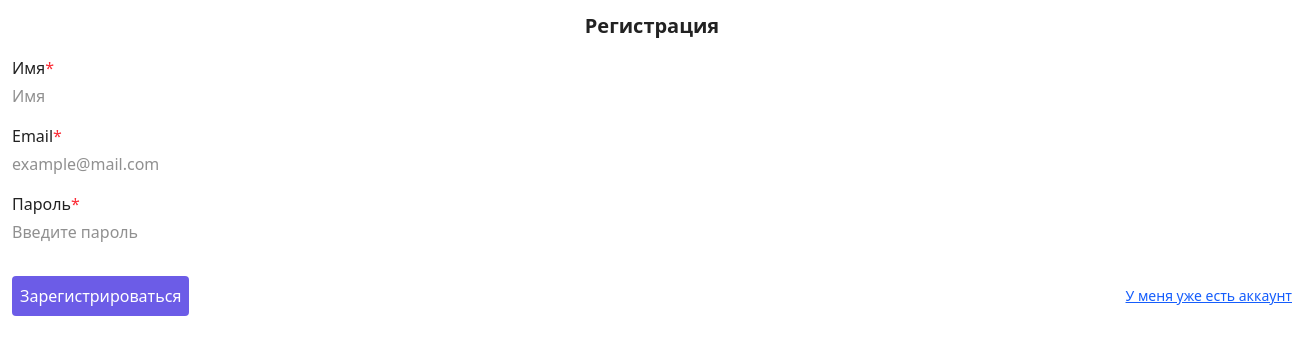
Test: RegisterForm › ошибка: email занят
The image size is (1304, 357).
Type "Test User" into the field with placeholder "Имя".
click(652, 96); type("Test User")  # box [12,84,1292,108]
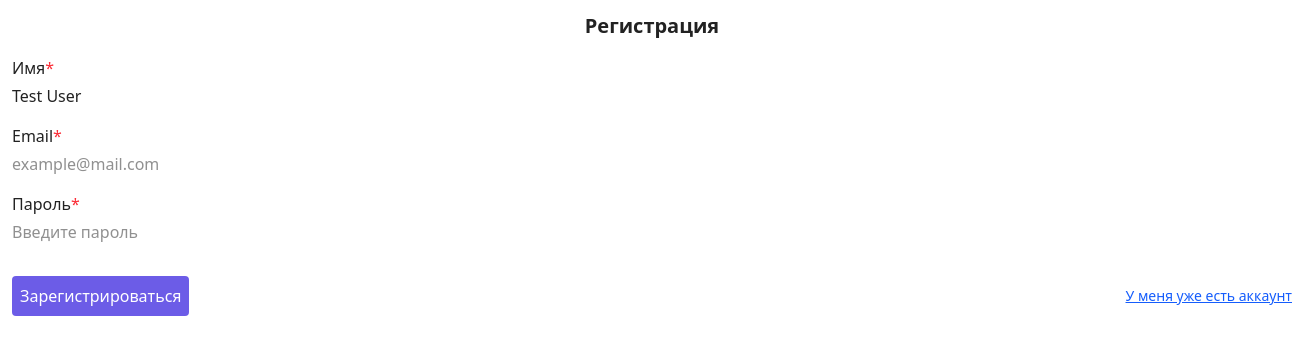
Type "taken@mail.com" into the field with placeholder "example@mail.com".
click(652, 164); type("taken@mail.com")  # box [12,152,1292,176]
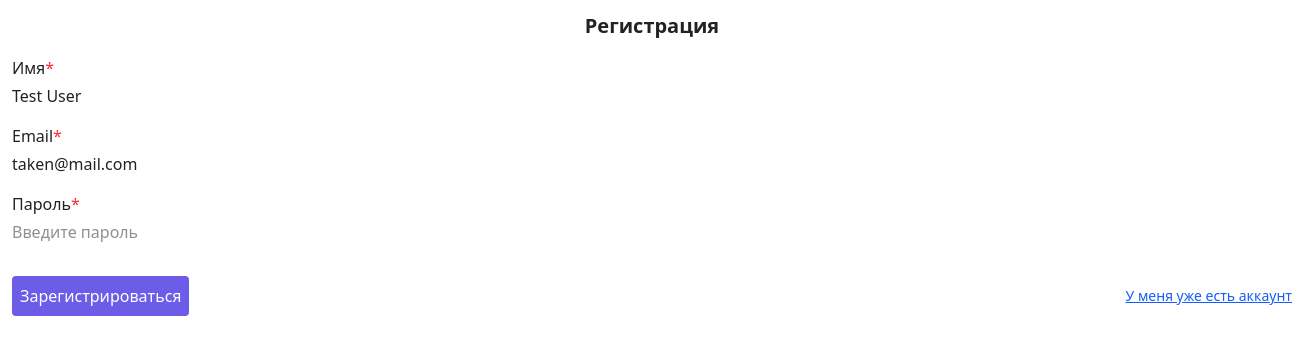
Type "123456" into the password field with placeholder "Введите пароль".
click(652, 232); type("123456")  # box [12,220,1292,244]
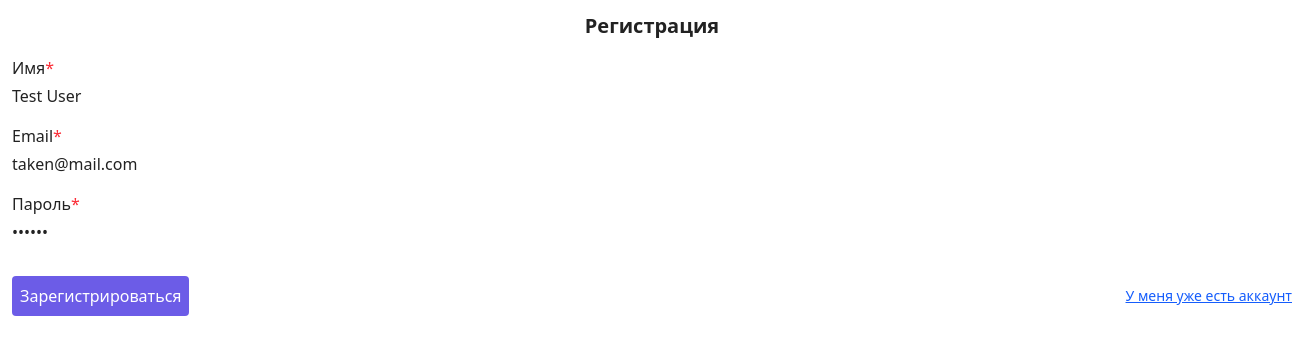
Click the button "Зарегистрироваться".
click(101, 296)  # box [12,276,189,316]
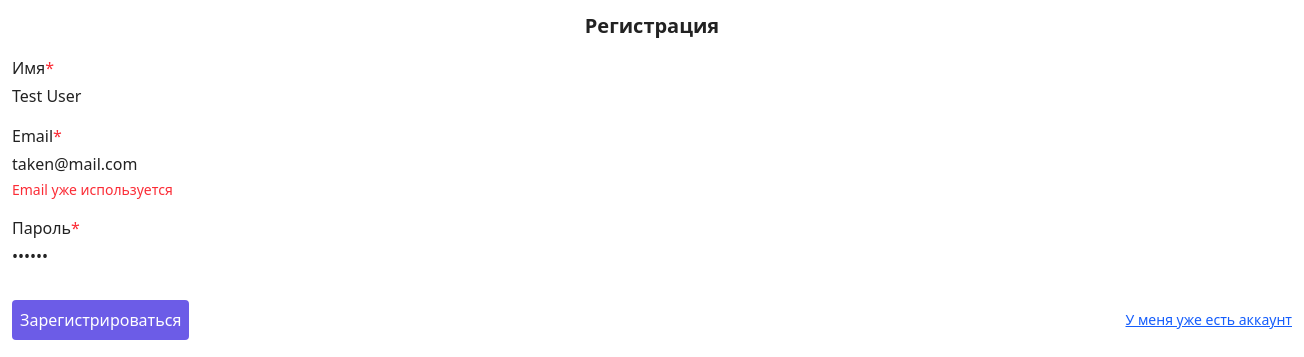
Now the text "Email уже используется" is shown, box [12,180,173,199]
